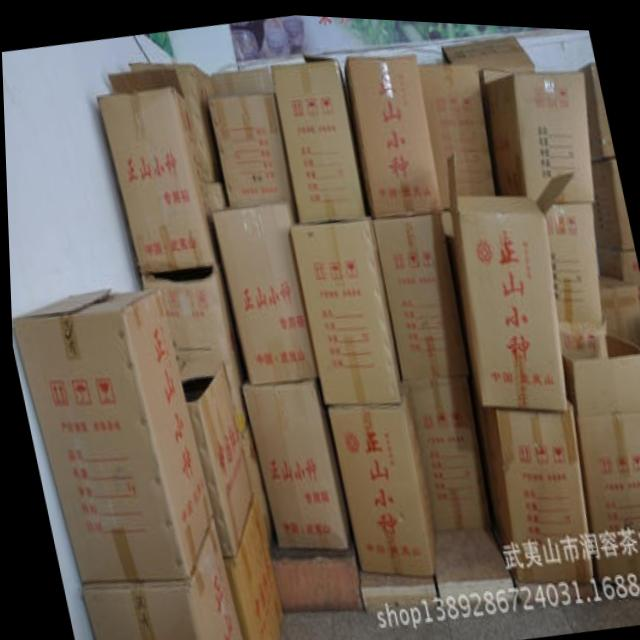box: (10, 286, 210, 582), (446, 145, 571, 405), (97, 67, 217, 271), (474, 390, 589, 575), (326, 378, 432, 571), (291, 214, 399, 401), (77, 518, 239, 640), (562, 325, 640, 574), (210, 201, 315, 380), (241, 374, 348, 545), (140, 260, 246, 432), (271, 48, 364, 219), (371, 210, 467, 374), (344, 50, 440, 213), (173, 352, 249, 554), (482, 63, 594, 199), (405, 370, 489, 527), (127, 60, 221, 181), (418, 60, 495, 204), (543, 197, 606, 353), (206, 89, 290, 205), (222, 493, 280, 640), (238, 423, 271, 546), (593, 153, 632, 243), (580, 56, 614, 154), (440, 29, 534, 64), (603, 270, 640, 341), (601, 243, 640, 308), (210, 64, 271, 95), (202, 181, 225, 210)
